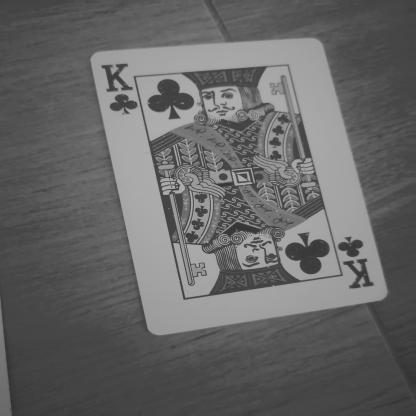KC: (99, 52, 149, 124), (330, 229, 380, 299)
